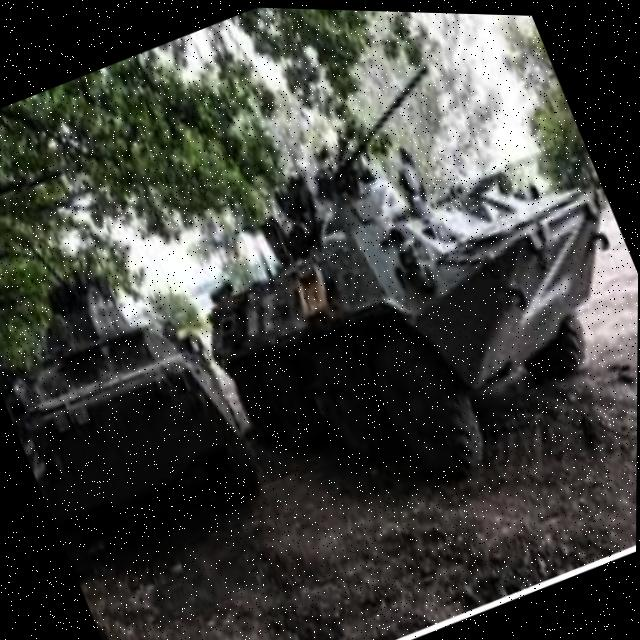MIL_APC: (154, 39, 640, 535), (0, 224, 287, 570)
